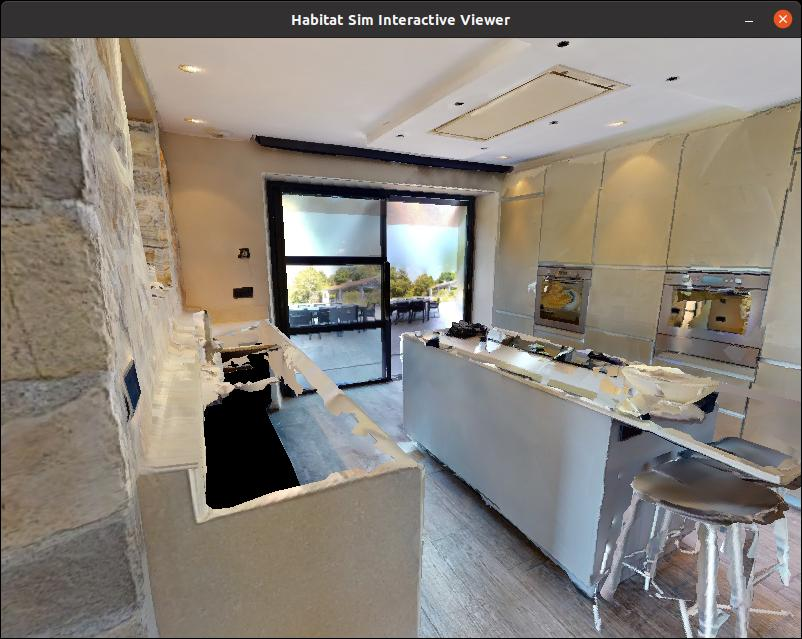chair: (625, 449, 792, 633)
table: (413, 313, 696, 555)
